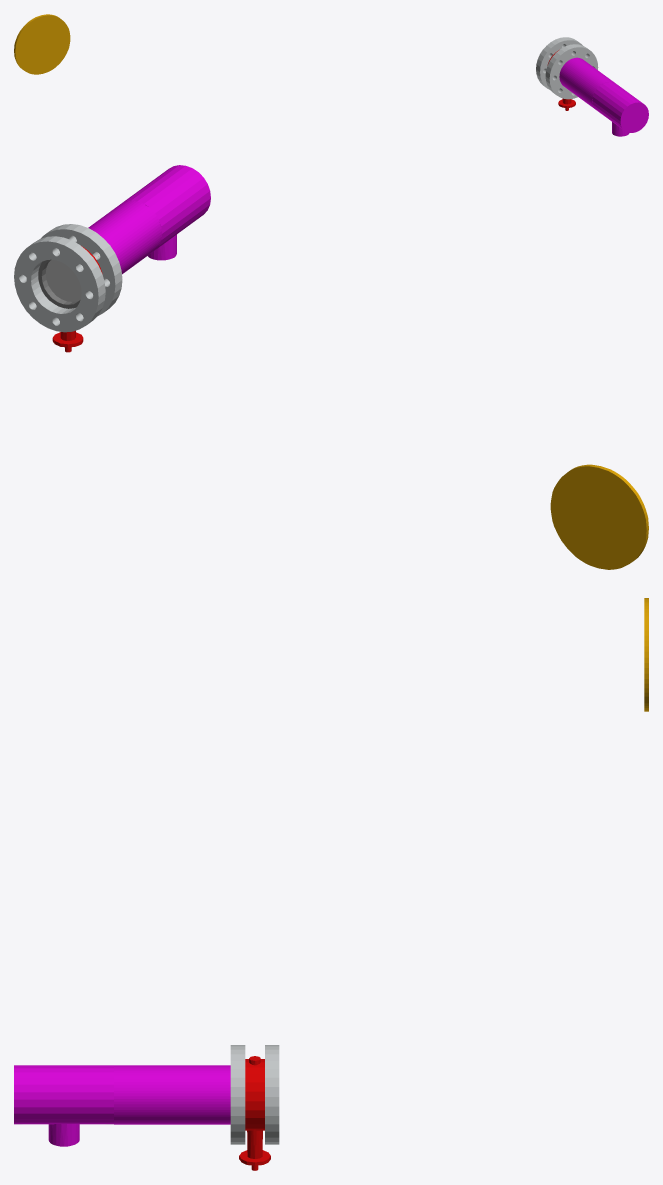
3 renders of one model, top to bottom at view 1: azimuth 30°, elevation 25°; view 2: azimuth 150°, elevation 25°; view 3: azimuth 270°, elevation 25°, orthographic. The views are drawn at different scales.
Bounding box in the file's own units: 2.74 × 0.6471 × 1.81.
